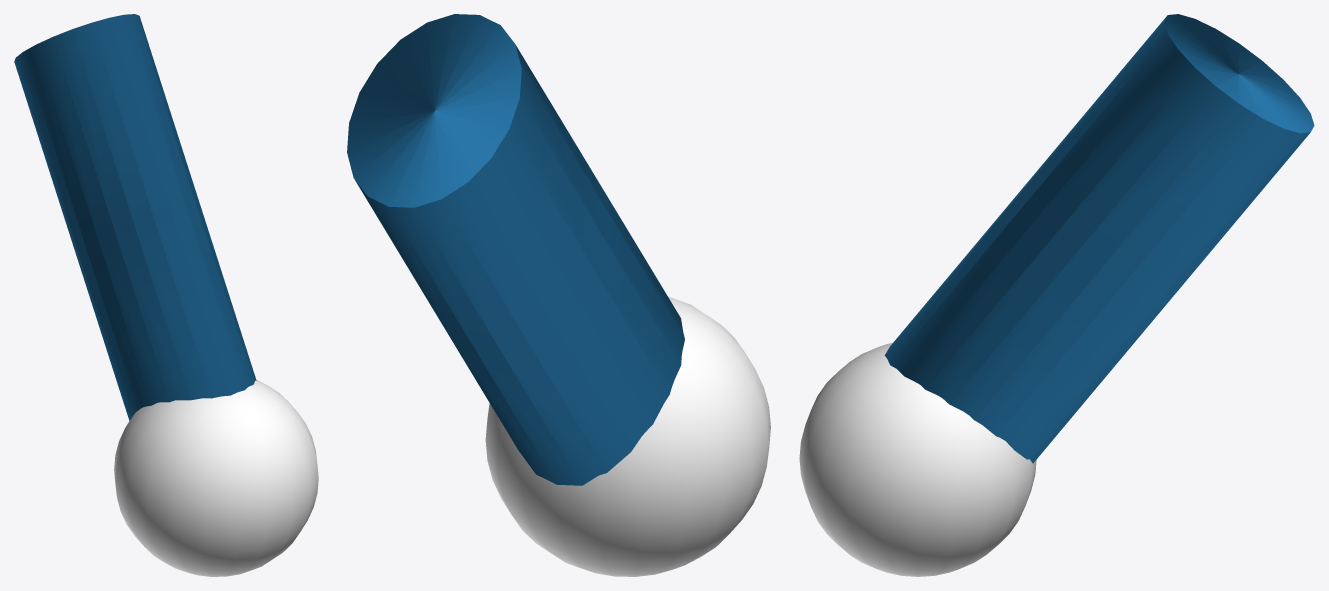
The model's file is DoraemonLeftHand.obj.
3 views of the same model, side by side, from view 1: azimuth 30°, elevation 25°; view 2: azimuth 150°, elevation 25°; view 3: azimuth 270°, elevation 25° (orthographic). The views are drawn at different scales.
Parts seen in each view (by area): view 1: pPipe1, pSphere1; view 2: pPipe1, pSphere1; view 3: pPipe1, pSphere1.
Boxes of the visible parts, left/top/right/bottom form: pPipe1: left=14, top=14, right=256, bottom=420; pSphere1: left=114, top=379, right=318, bottom=576; pPipe1: left=347, top=14, right=684, bottom=485; pSphere1: left=485, top=296, right=770, bottom=576; pPipe1: left=884, top=14, right=1314, bottom=463; pSphere1: left=799, top=343, right=1036, bottom=576.
Bounding box in the file's own units: 0.2691 × 0.6806 × 0.5841.
1 material, 1 textured.
